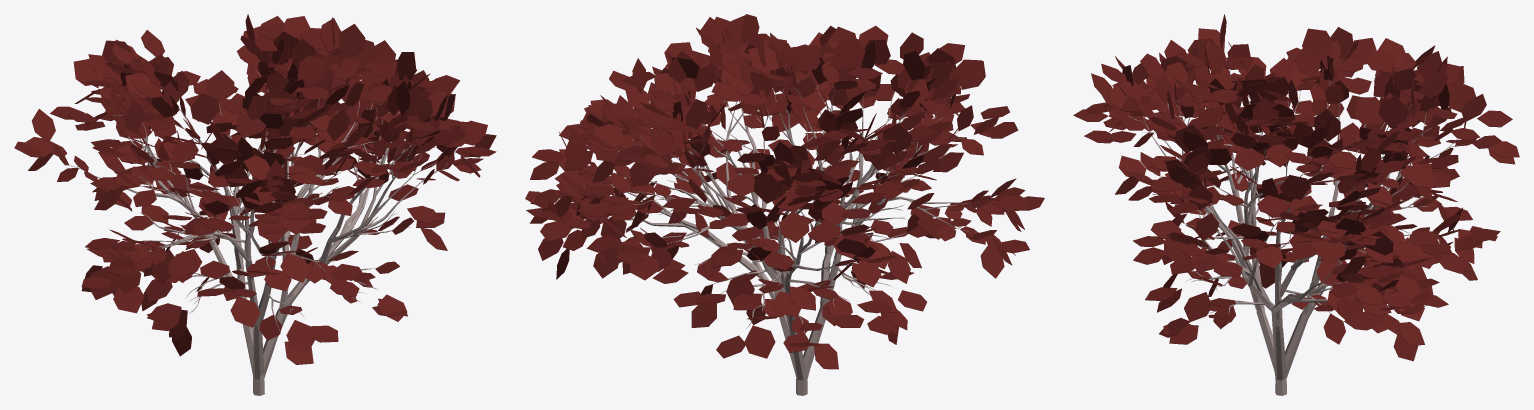
The model's file is lvl1_tree2_total.glb.
3 renders of one model, left to right at view 1: azimuth 30°, elevation 25°; view 2: azimuth 150°, elevation 25°; view 3: azimuth 270°, elevation 25°, orthographic.
Visible parts, largest first — view 1: tree without motion.002; view 2: tree without motion.002; view 3: tree without motion.002.
Boxes of the visible parts, box(x1,y1,x2,y2) form: tree without motion.002: box(14, 14, 496, 395); tree without motion.002: box(525, 14, 1044, 395); tree without motion.002: box(1073, 14, 1519, 395).
Bounding box in the file's own units: 35.6 × 27.26 × 32.59.
Materials: 1 (1 with a texture image).
